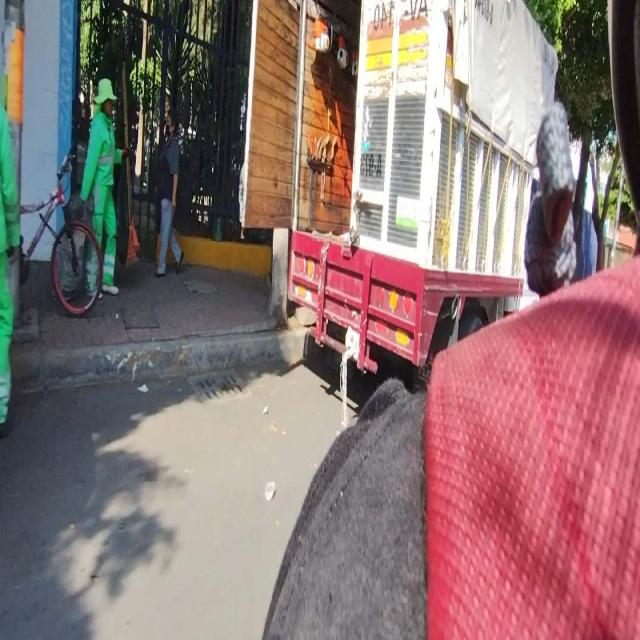adult: (79, 77, 127, 299), (154, 107, 183, 276)
